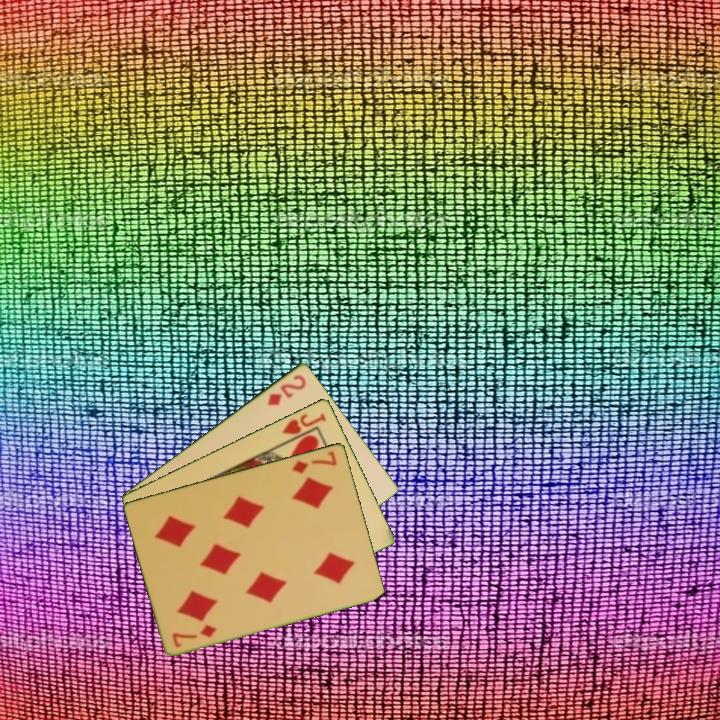2d: (263, 370, 309, 409)
7d: (289, 447, 340, 476), (169, 621, 220, 650)
Jh: (279, 409, 329, 446)
